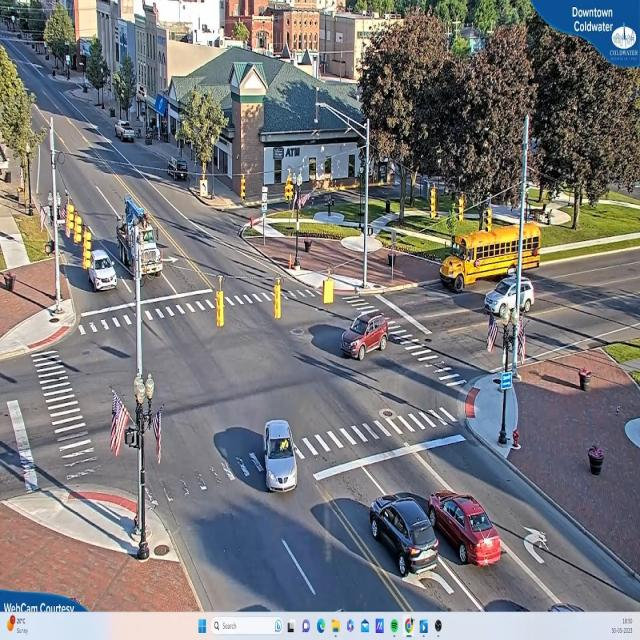bus: (441, 224, 544, 292)
car: (427, 491, 506, 569), (369, 492, 442, 576), (339, 309, 392, 360), (263, 421, 299, 495), (88, 242, 115, 298), (118, 122, 136, 143)
truck: (116, 200, 164, 278)
